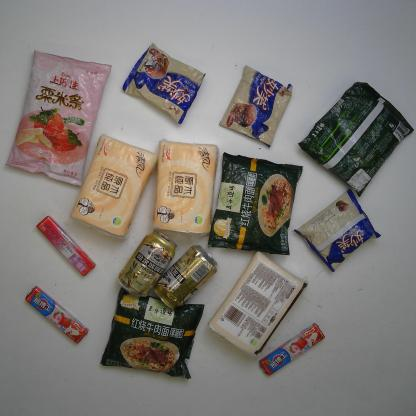Alcohol: (154, 245, 218, 310), (117, 228, 177, 295)
Candy: (258, 320, 326, 378), (35, 216, 97, 276), (25, 286, 89, 344)
Dessert: (292, 186, 382, 274), (120, 40, 208, 127), (217, 64, 295, 152)
Instant Noodles: (296, 81, 415, 200), (206, 150, 306, 258), (97, 284, 206, 380)
Puffed Food: (3, 49, 112, 188)
Tissue: (205, 250, 309, 362), (68, 133, 159, 242), (152, 137, 219, 237)
